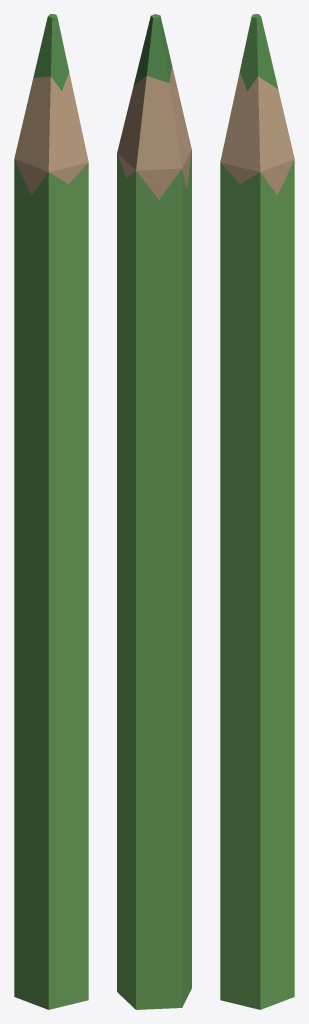
File: Int_OfficePencil01_3.fbx
The picture shows the model from 3 angles, left to right: view 1: azimuth 30°, elevation 25°; view 2: azimuth 150°, elevation 25°; view 3: azimuth 330°, elevation 25°; orthographic projection.
Visible parts, largest first — view 1: Int_OfficePencil01_3; view 2: Int_OfficePencil01_3; view 3: Int_OfficePencil01_3.
Boxes of the visible parts, left/top/right/bottom form: Int_OfficePencil01_3: left=14, top=14, right=88, bottom=1009; Int_OfficePencil01_3: left=117, top=14, right=191, bottom=1009; Int_OfficePencil01_3: left=220, top=14, right=294, bottom=1009.
Size of what is drawn, in the model's own units: 1.74 by 1.65 by 25.01.
